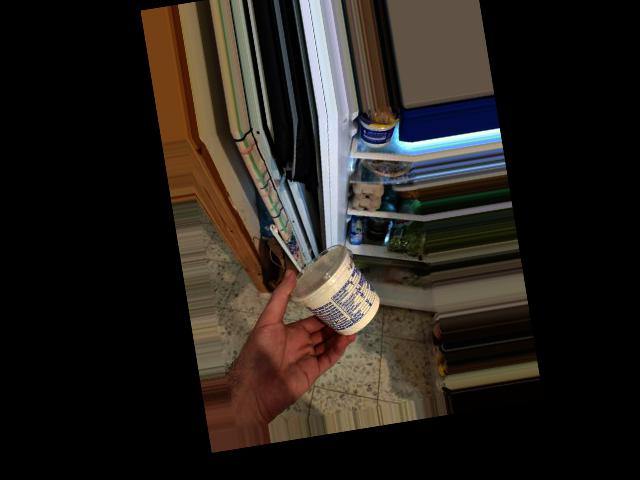cotage: (279, 253, 374, 342)
